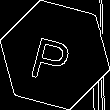P_N: (31, 26, 79, 84)
